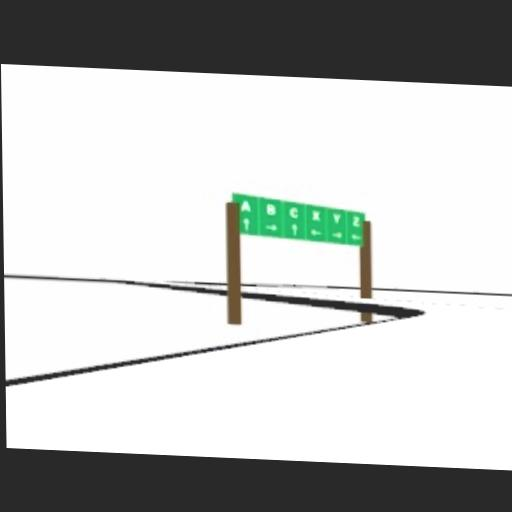A: (239, 200, 250, 212)
B: (265, 203, 275, 215)
C: (287, 206, 299, 218)
Left: (309, 228, 321, 236), (349, 233, 360, 240)
Right: (263, 222, 277, 232), (330, 230, 342, 238)
Straight: (242, 218, 249, 230), (291, 222, 296, 236)
X: (310, 210, 320, 222)
Y: (331, 212, 341, 224)
Z: (350, 215, 360, 226)
